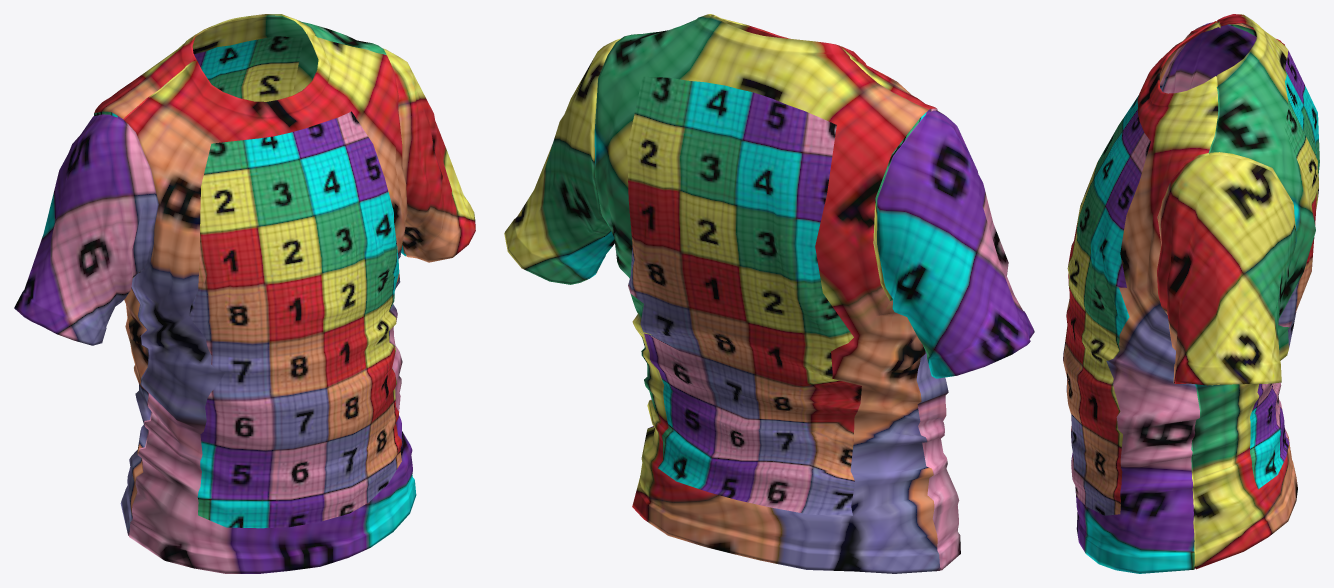
File: VM_tshirt_basic.gltf
3 renders of one model, left to right at view 1: azimuth 30°, elevation 25°; view 2: azimuth 150°, elevation 25°; view 3: azimuth 270°, elevation 25°, orthographic. The views are drawn at different scales.
Visible parts, largest first — view 1: VM_tshirt_basic; view 2: VM_tshirt_basic; view 3: VM_tshirt_basic.
Part boxes in pixels (<box>): VM_tshirt_basic: <box>14,14,475,573</box>; VM_tshirt_basic: <box>504,14,1034,573</box>; VM_tshirt_basic: <box>1063,14,1319,573</box>.
Size of the model in its own units: 2.05 by 2.1 by 0.9922.
Materials: 3 (3 with a texture image).
